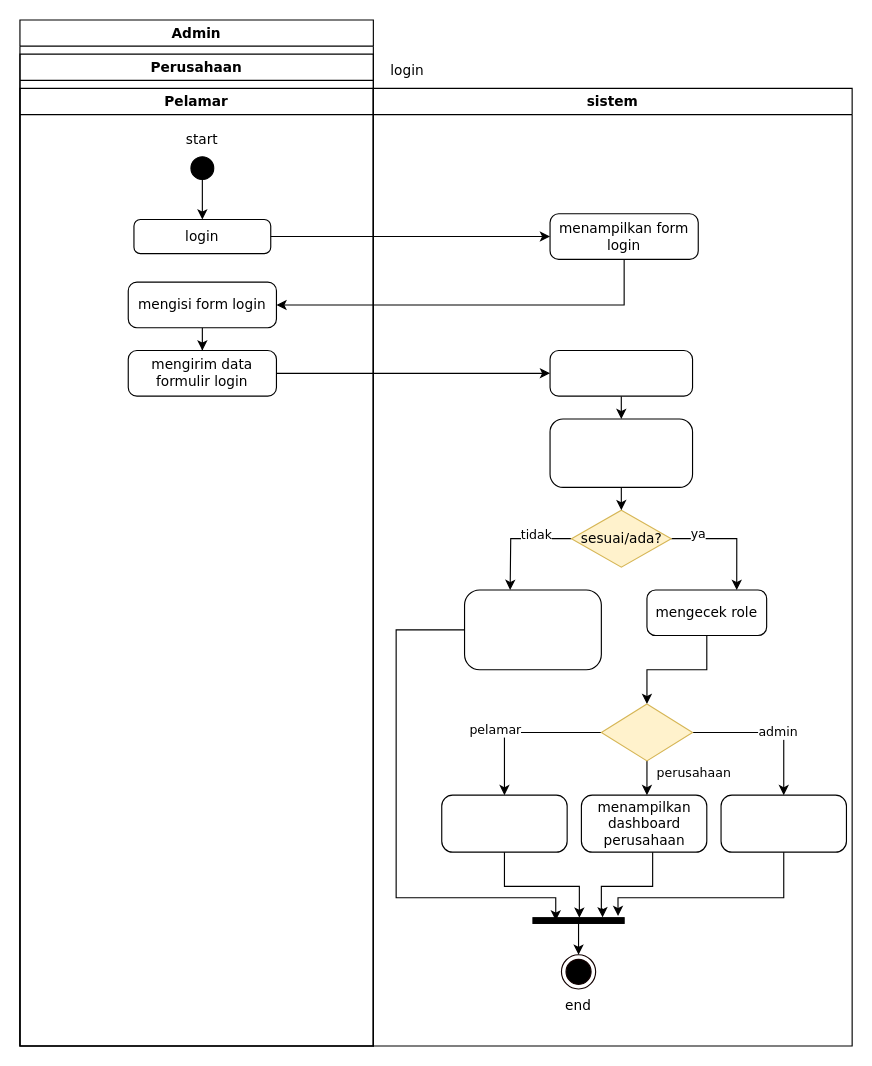
Some shapes in this 872 by 1066 pixel diagram are drawn without their labels. The shapes that lost their labels are listed below. From the top down, each one's centre as x and y in pixels, then its label:
[621,372]: menerima data login
[621,452]: mengecek kesesuaian data di database
[532,629]: menampilkan pesan "akun tidak ditemukan"
[646,732]: role ?
[504,823]: menampilkan tampilan default website
[783,823]: menampilkan dashboard admin
